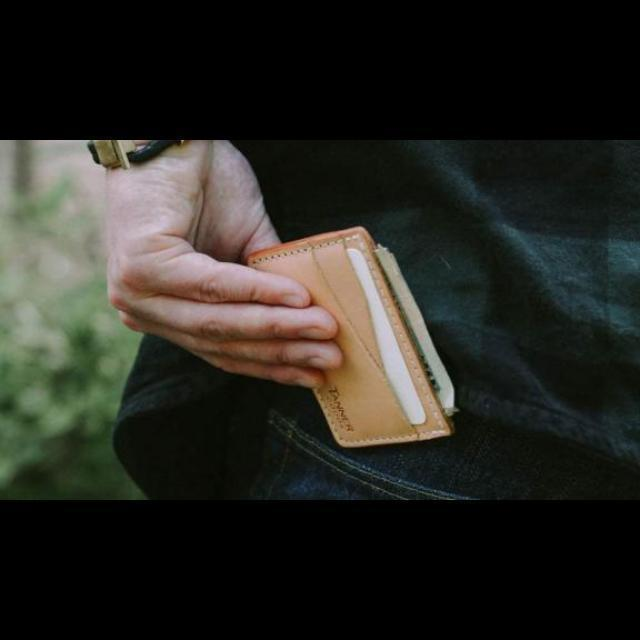Wallet: (248, 228, 456, 448)
